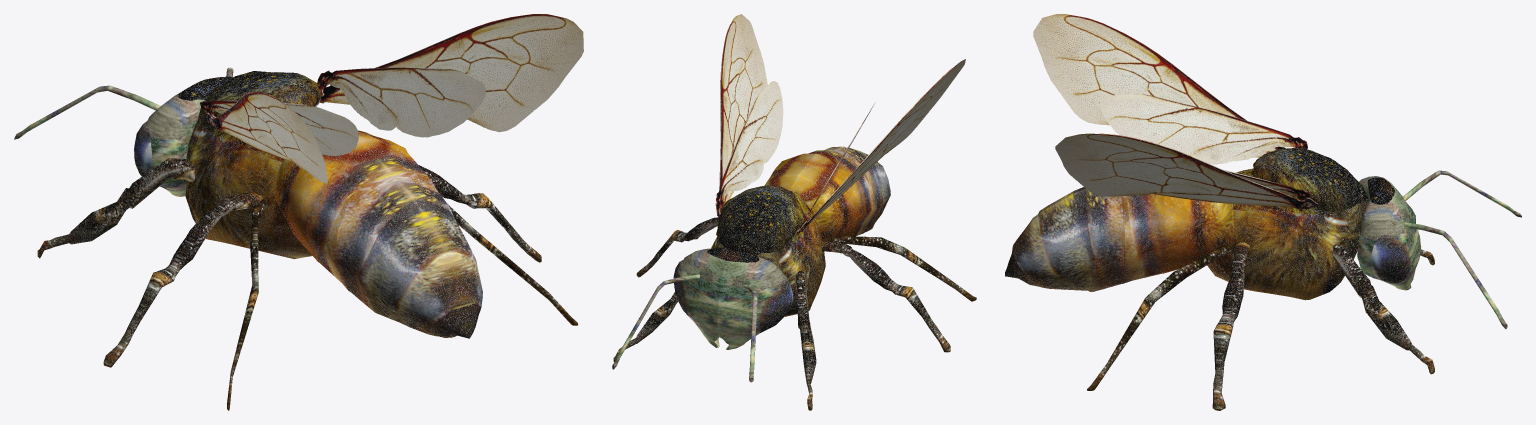
File: Bee Collada.dae
3 views of the same model, side by side, from view 1: azimuth 30°, elevation 25°; view 2: azimuth 150°, elevation 25°; view 3: azimuth 270°, elevation 25° (orthographic). The views are drawn at different scales.
Visible parts, largest first — view 1: cuerpo (×4), Componente_17 (×3), Componente_18 (×3), Componente_2 (×2), Componente_14 (×3), Componente_1, Componente_3 (×2), Componente_15; view 2: cuerpo (×4), Componente_14 (×4), Componente_17 (×4), Componente_18 (×2), Componente_2 (×2), Componente_1 (×2), Componente_3, Componente_15 (×2); view 3: cuerpo (×3), Componente_17 (×4), Componente_18 (×2), Componente_14 (×2), Componente_2, Componente_1, Componente_3, Componente_15 (×2).
Part boxes in pixels (x1,y1,x2,y2): cuerpo (×4): [185, 71, 482, 338]; Componente_17 (×3): [219, 14, 583, 183]; Componente_18 (×3): [211, 67, 485, 156]; Componente_2 (×2): [103, 165, 541, 367]; Componente_14 (×3): [134, 79, 215, 196]; Componente_1: [37, 158, 195, 258]; Componente_3 (×2): [227, 196, 578, 410]; Componente_15: [14, 85, 160, 139]; cuerpo (×4): [711, 146, 890, 316]; Componente_14 (×4): [673, 248, 793, 349]; Componente_17 (×4): [716, 14, 965, 233]; Componente_18 (×2): [716, 81, 783, 210]; Componente_2 (×2): [636, 217, 950, 352]; Componente_1 (×2): [613, 271, 816, 410]; Componente_3: [822, 236, 976, 301]; Componente_15 (×2): [612, 274, 757, 382]; cuerpo (×3): [1005, 148, 1367, 300]; Componente_17 (×4): [1033, 14, 1317, 209]; Componente_18 (×2): [1099, 94, 1307, 164]; Componente_14 (×2): [1357, 191, 1421, 290]; Componente_2: [1212, 242, 1249, 410]; Componente_1: [1332, 243, 1434, 374]; Componente_3: [1087, 241, 1237, 390]; Componente_15 (×2): [1403, 170, 1521, 329].
Bounding box in the file's own units: 99.19 × 124 × 68.49.
